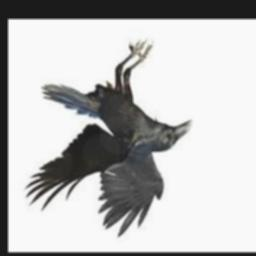Crow: (25, 42, 191, 237)
